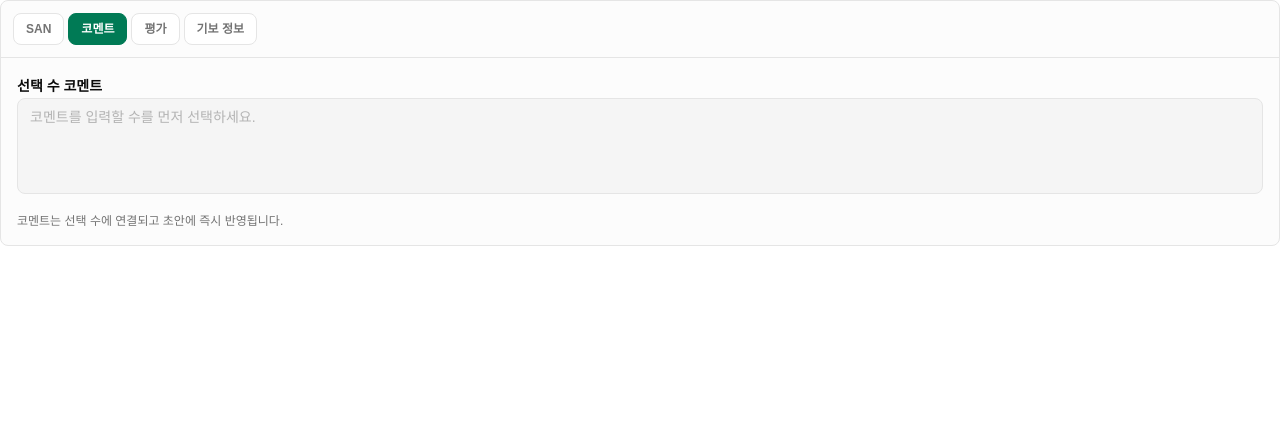
MoveMetadataTabs › 기보 정보 탭을 선택하면 기보 정보 편집 UI를 렌더링해야 한다
Click the tab "기보 정보": (220, 29) [184,13,257,45]
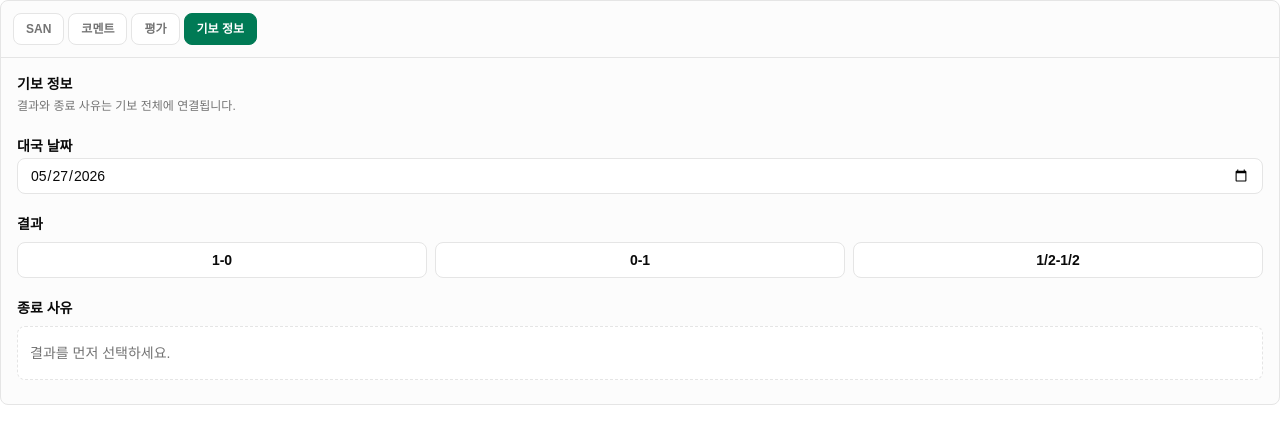
Check: the panel "기보 정보" is shown
Check: the element named "기보 결과 선택" is shown, box [17,242,1263,278]
Check: the text "결과를 먼저 선택하세요." is shown, box [17,326,1263,380]
